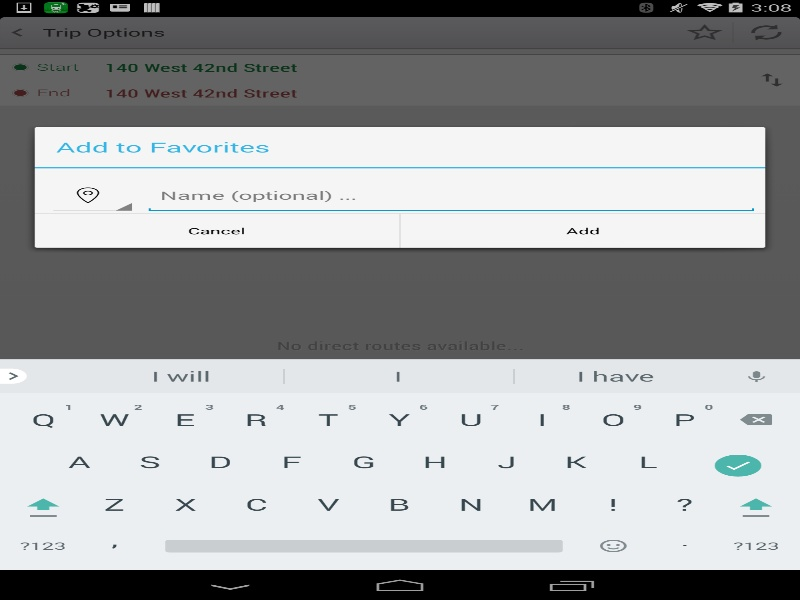Button: (34, 214, 399, 247), (400, 214, 765, 247)
Input: (144, 177, 758, 213)
